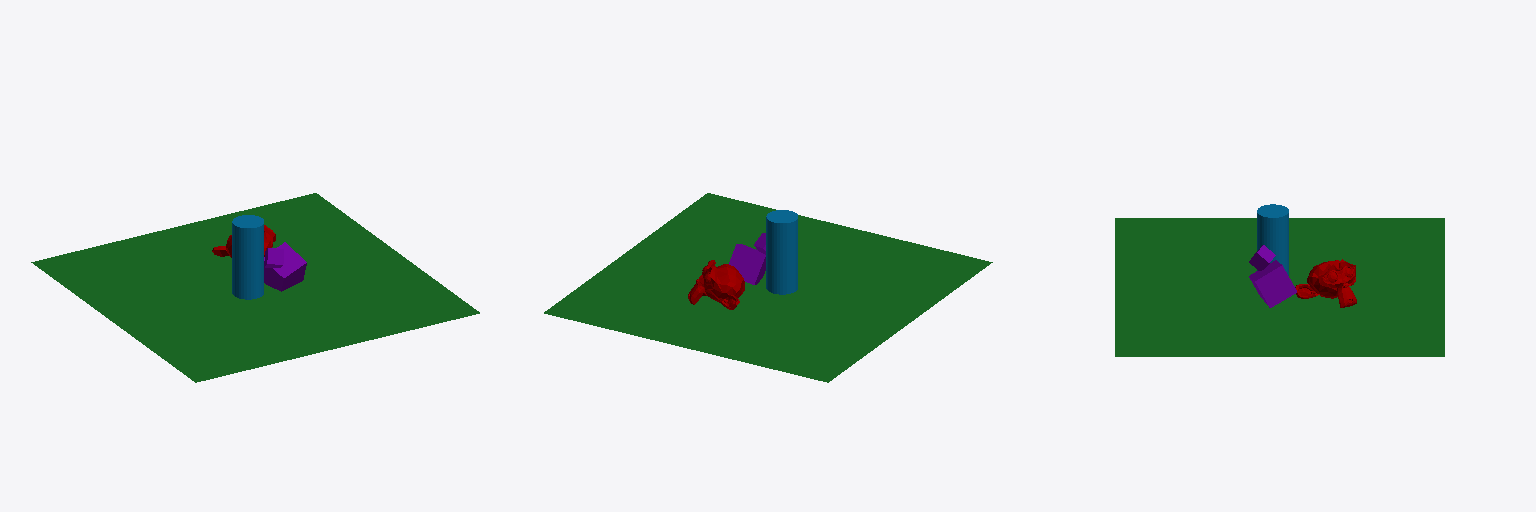
File: palikat_joined.obj
3 views of the same model, side by side, from view 1: azimuth 30°, elevation 25°; view 2: azimuth 150°, elevation 25°; view 3: azimuth 270°, elevation 25° (orthographic).
Visible parts, largest first — view 1: Plane; view 2: Plane; view 3: Plane.
Part boxes in pixels (x1,y1,x2,y2): Plane: (31, 193, 479, 382); Plane: (544, 193, 992, 382); Plane: (1115, 204, 1444, 356).
Bounding box in the file's own units: 20.49 × 5.42 × 20.49.